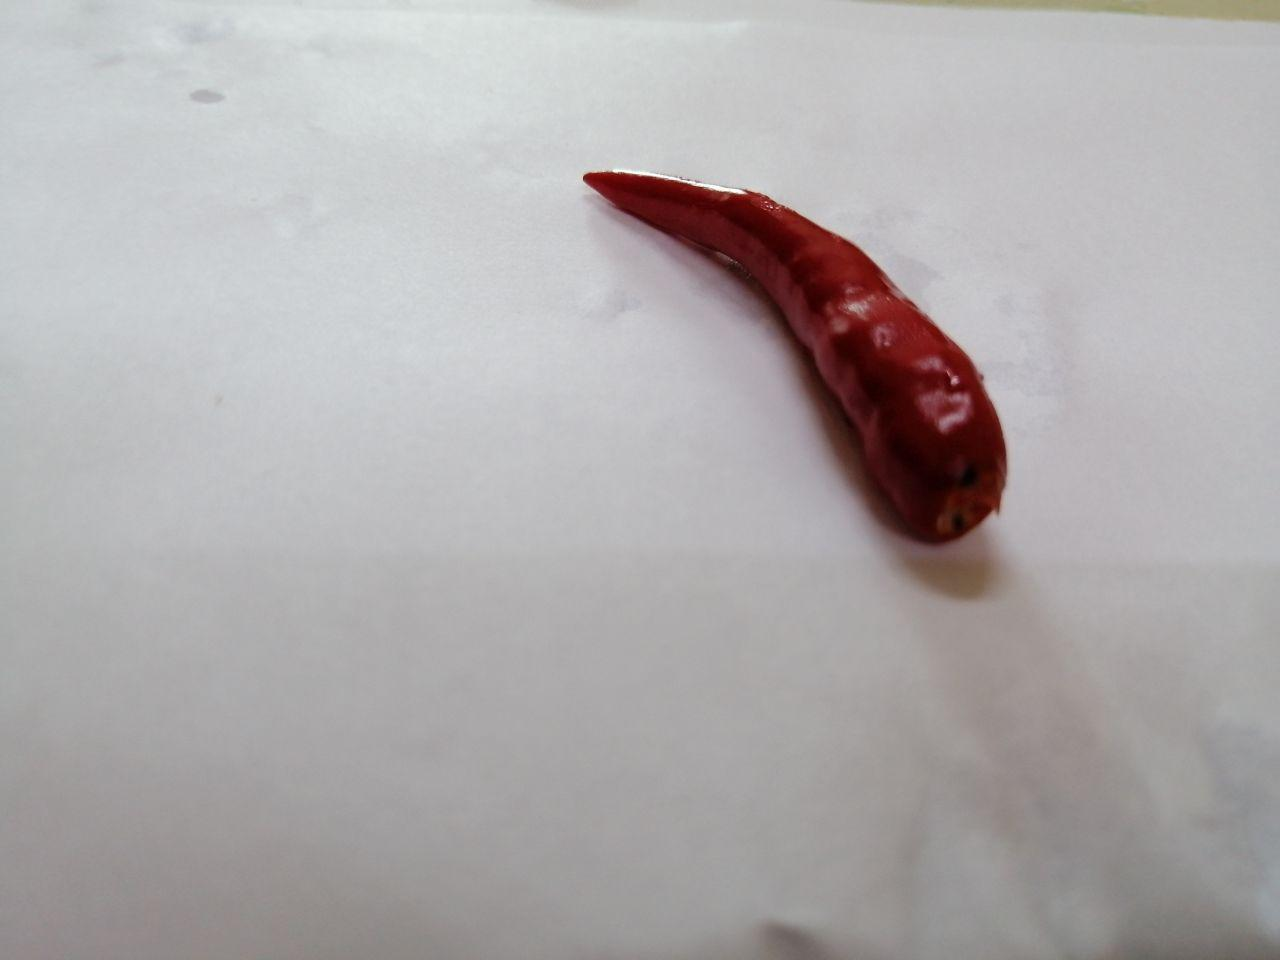lada merah: (568, 153, 1035, 555)
